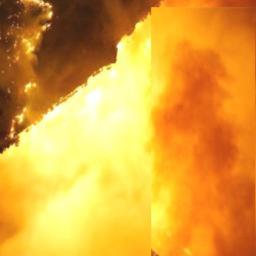Heavy smoke: (14, 45, 256, 251)
